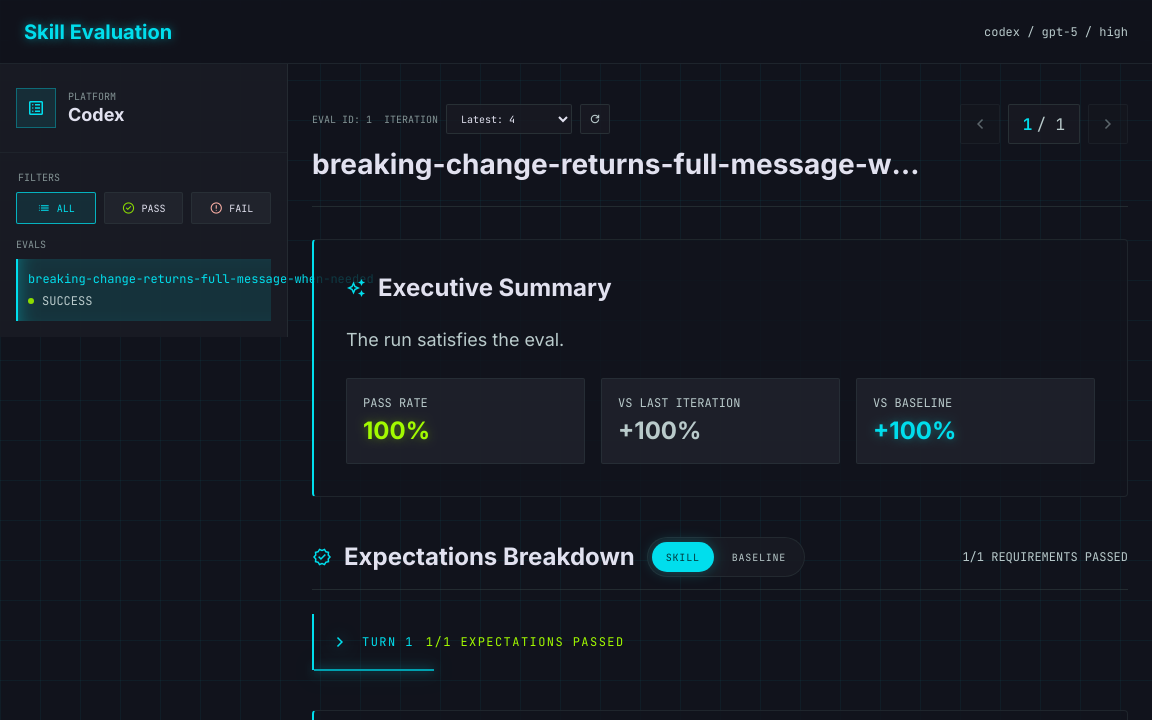
loads a selected older iteration from the iteration dropdown
Select "Iteration 3" in the dropdown labelled "Iteration" at coordinates (509, 119), box [446, 104, 572, 134]
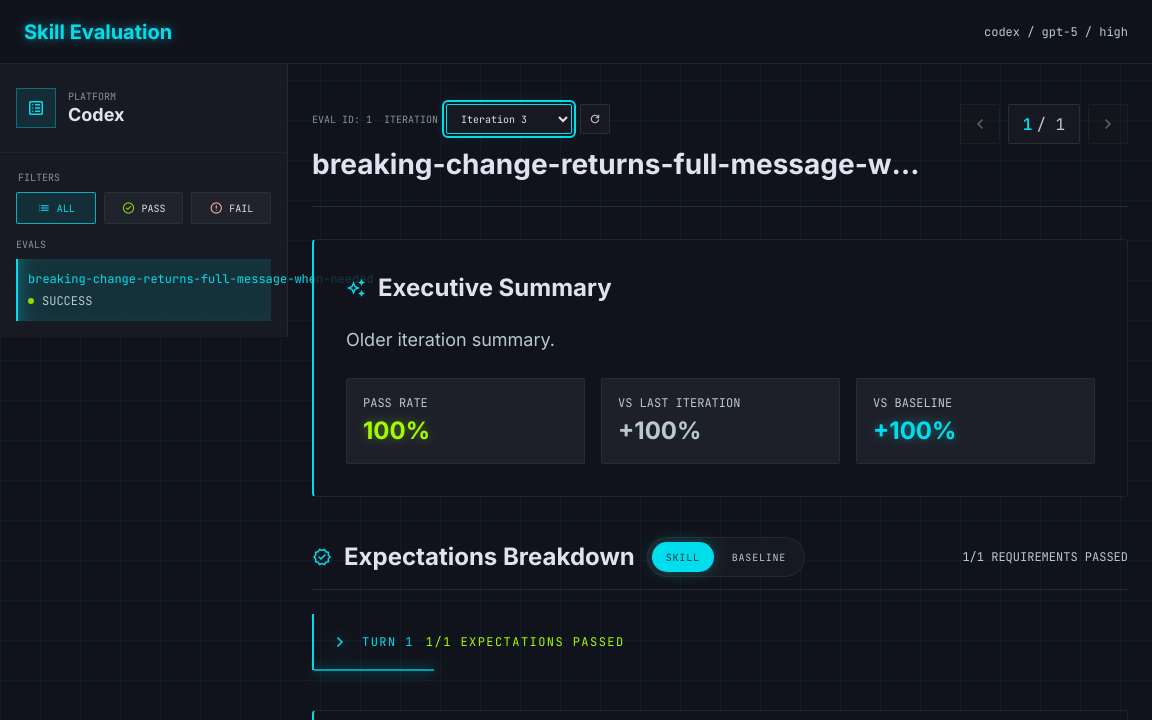
expect the text "Older iteration summary." is shown: met, box [346, 329, 555, 350]
